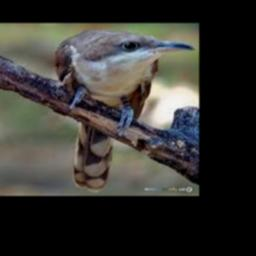Cuckoo: (53, 29, 196, 189)
